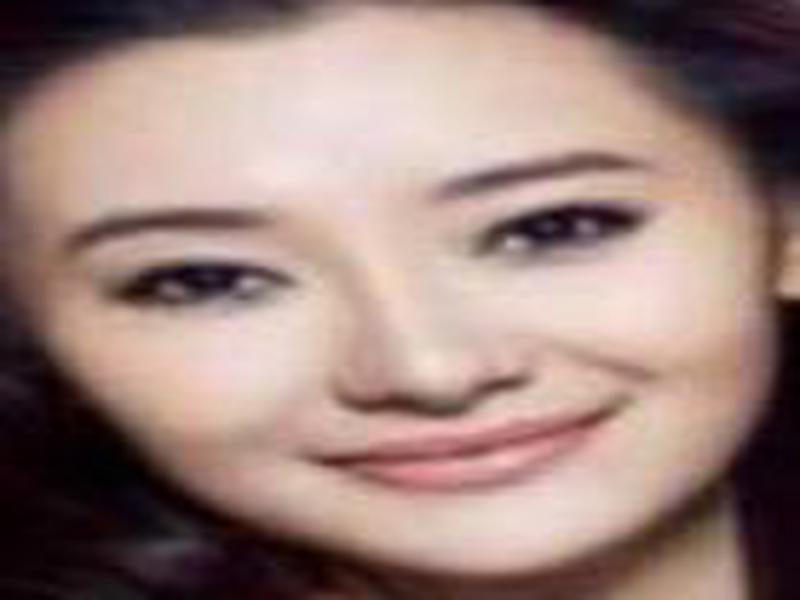without_mask: (1, 76, 774, 580)
